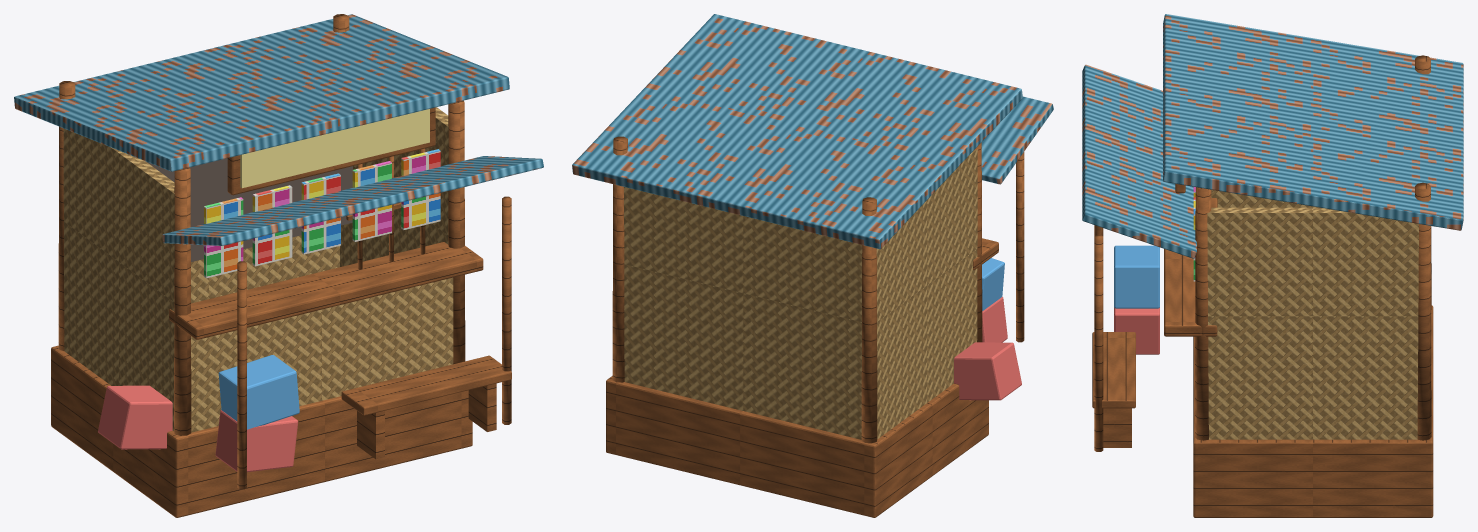
The model's file is tindahan.glb.
3 views of the same model, side by side, from view 1: azimuth 30°, elevation 25°; view 2: azimuth 150°, elevation 25°; view 3: azimuth 270°, elevation 25° (orthographic). The views are drawn at different scales.
Parts seen in each view (by area): view 1: Batch_StoreWood, Batch_StoreSawali, Batch_StoreYero, Batch_PanindaSachets, Batch_CrateRed, Batch_StoreSign, Batch_CrateBlue, Batch_StoreInterior; view 2: Batch_StoreSawali, Batch_StoreYero, Batch_StoreWood, Batch_CrateRed, Batch_CrateBlue; view 3: Batch_StoreYero, Batch_StoreSawali, Batch_StoreWood, Batch_CrateBlue, Batch_CrateRed.
Boxes of the visible parts, x1,y1,x2,y2 form: Batch_StoreWood: (51, 14, 511, 517); Batch_StoreSawali: (63, 107, 453, 432); Batch_StoreYero: (14, 14, 543, 245); Batch_PanindaSachets: (204, 149, 440, 278); Batch_CrateRed: (98, 385, 298, 472); Batch_StoreSign: (240, 109, 429, 188); Batch_CrateBlue: (218, 355, 299, 429); Batch_StoreInterior: (146, 158, 352, 261); Batch_StoreSawali: (624, 149, 977, 439); Batch_StoreYero: (572, 14, 1053, 249); Batch_StoreWood: (606, 136, 1024, 517); Batch_CrateRed: (954, 297, 1021, 400); Batch_CrateBlue: (982, 258, 1004, 310); Batch_StoreYero: (1082, 14, 1463, 258); Batch_StoreSawali: (1207, 189, 1418, 439); Batch_StoreWood: (1092, 55, 1433, 517); Batch_CrateBlue: (1114, 245, 1159, 308); Batch_CrateRed: (1114, 307, 1159, 354).
Size of the model in its own units: 3.13 by 3.09 by 2.99.
8 materials, 4 textured.
